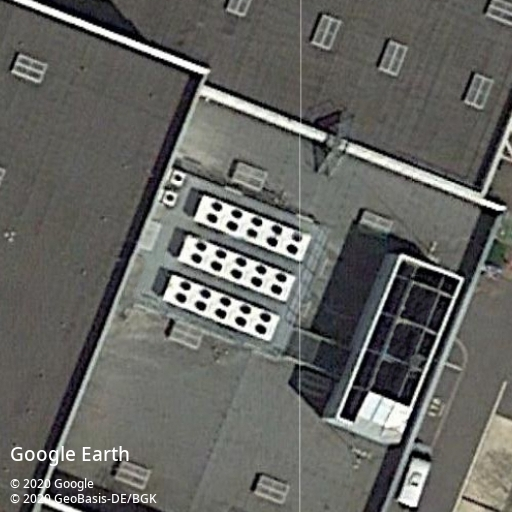Chiller: (177, 235, 298, 304), (192, 194, 312, 262), (162, 274, 282, 342), (169, 168, 187, 189), (161, 188, 179, 209)
